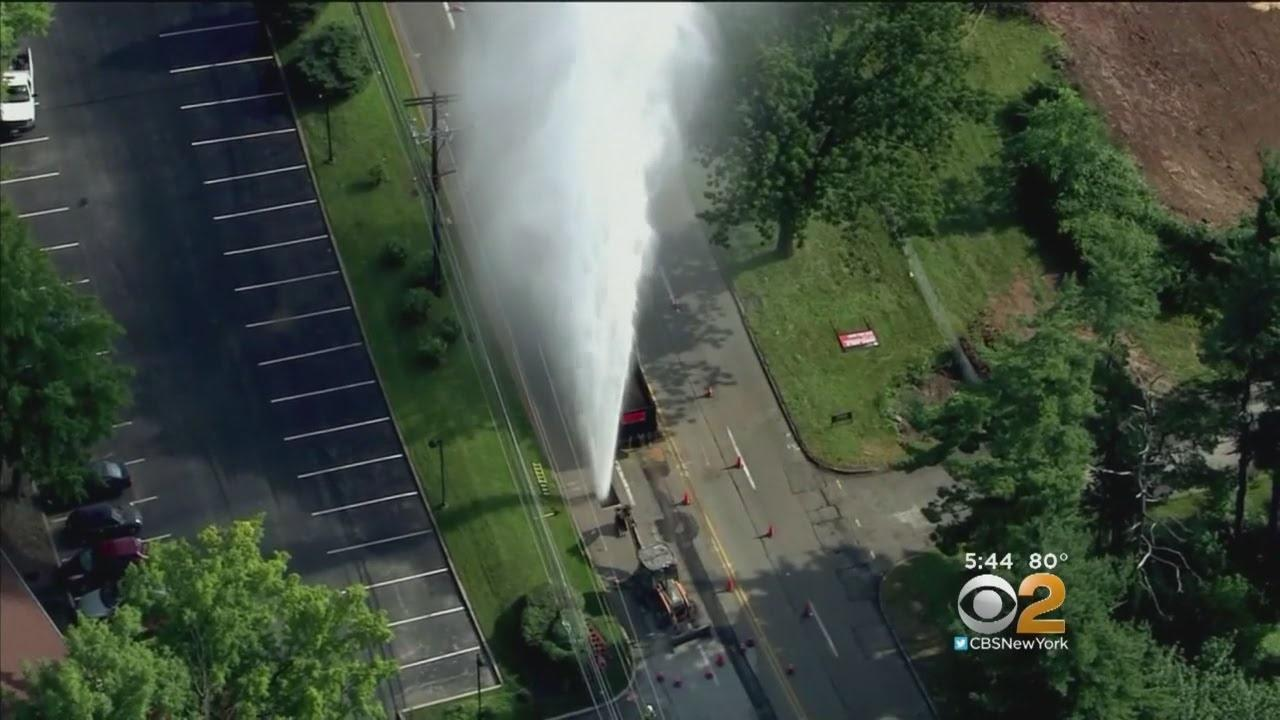pipe burst: (476, 0, 716, 508)
